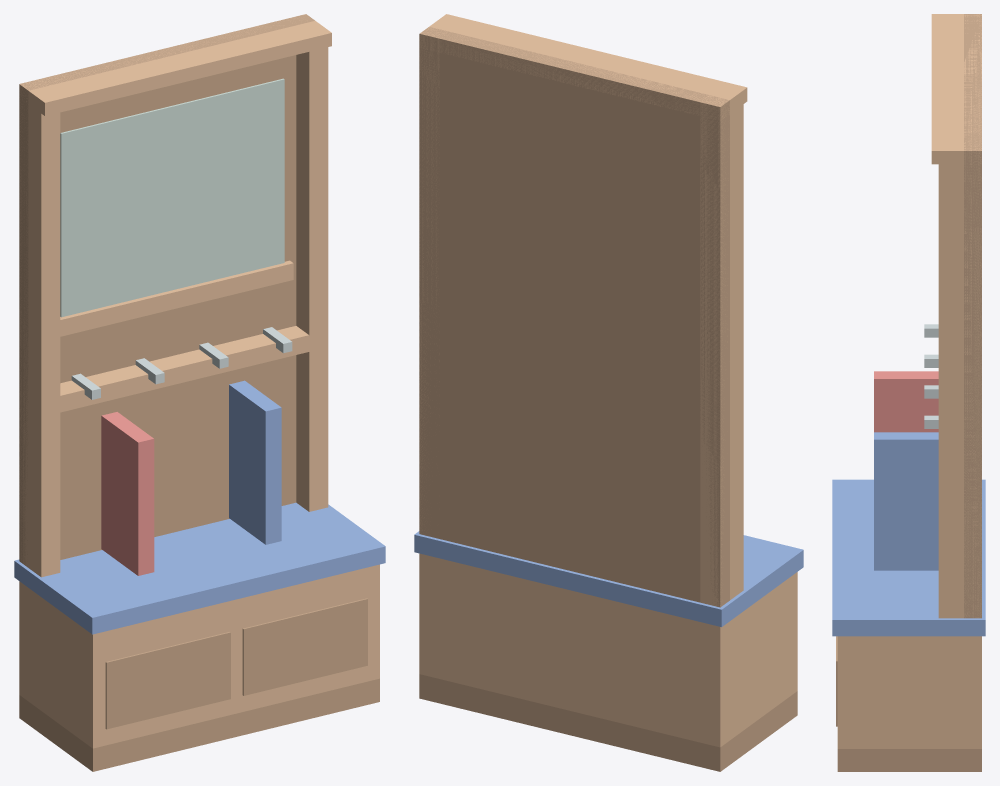
Rendered from hallTree.glb.
3 views of the same model, side by side, from view 1: azimuth 30°, elevation 25°; view 2: azimuth 150°, elevation 25°; view 3: azimuth 270°, elevation 25° (orthographic). The views are drawn at different scales.
Parts seen in each view (by area): view 1: hallTree; view 2: hallTree; view 3: hallTree.
Boxes of the visible parts, box(x1,y1,x2,y2) form: hallTree: box(14, 14, 385, 771); hallTree: box(414, 14, 803, 771); hallTree: box(832, 14, 985, 771).
Size of the model in its own units: 0.46 by 0.95 by 0.2125.
